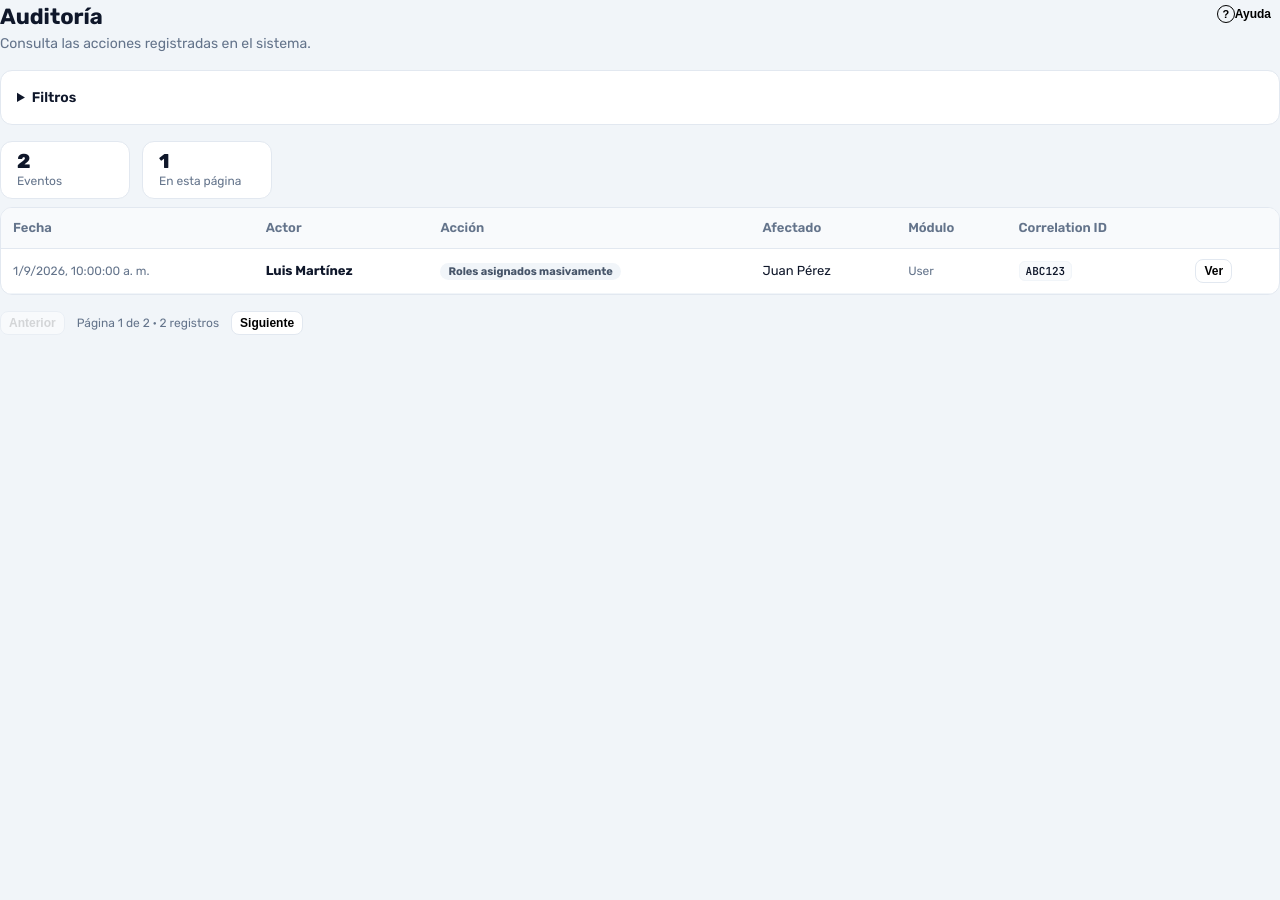
AuditoriaPage 10K › abre el detalle del evento
Click the button "Ver". click: (1214, 270)
box: [1195,258,1232,282]
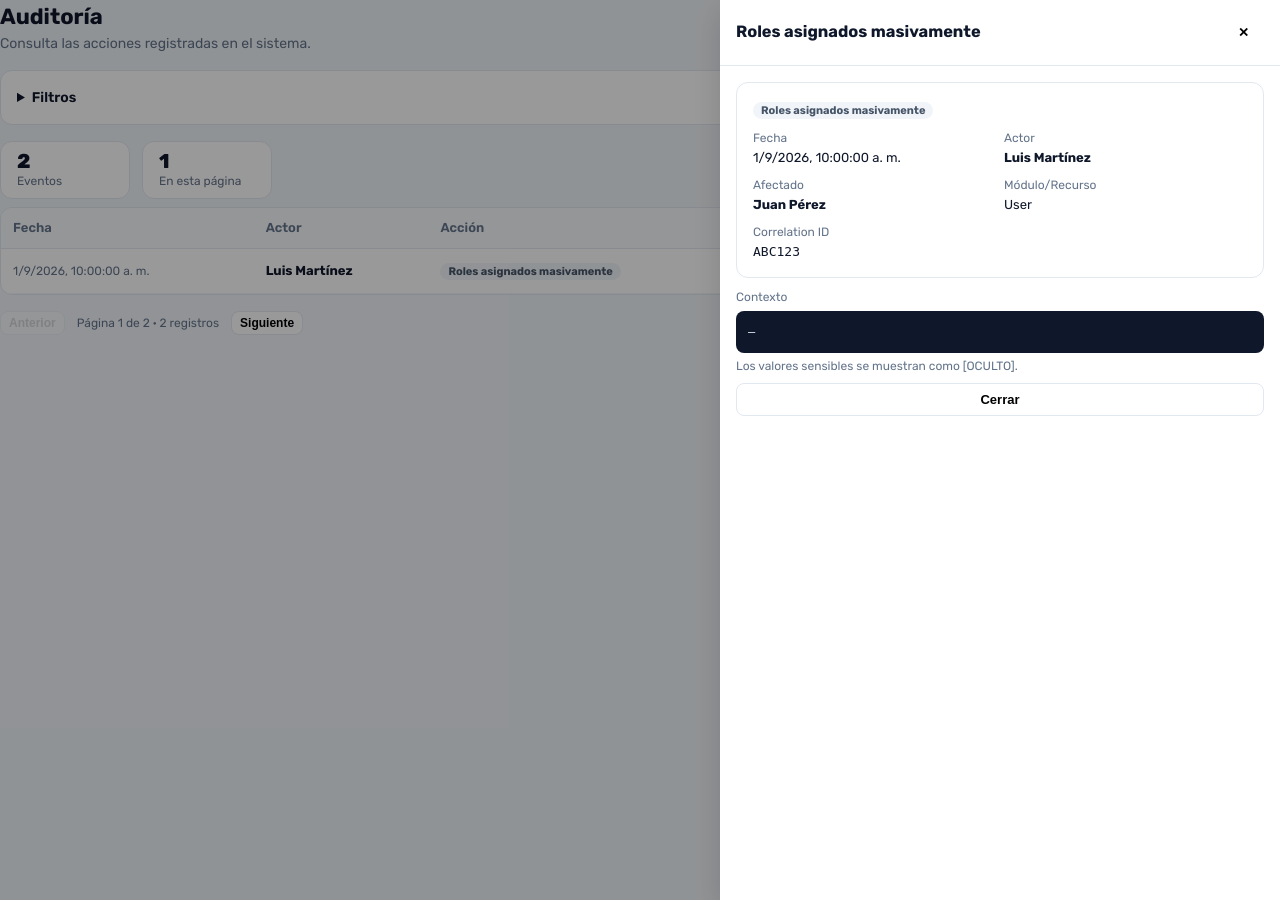
Check: the dialog is shown, box [720,0,1279,899]
